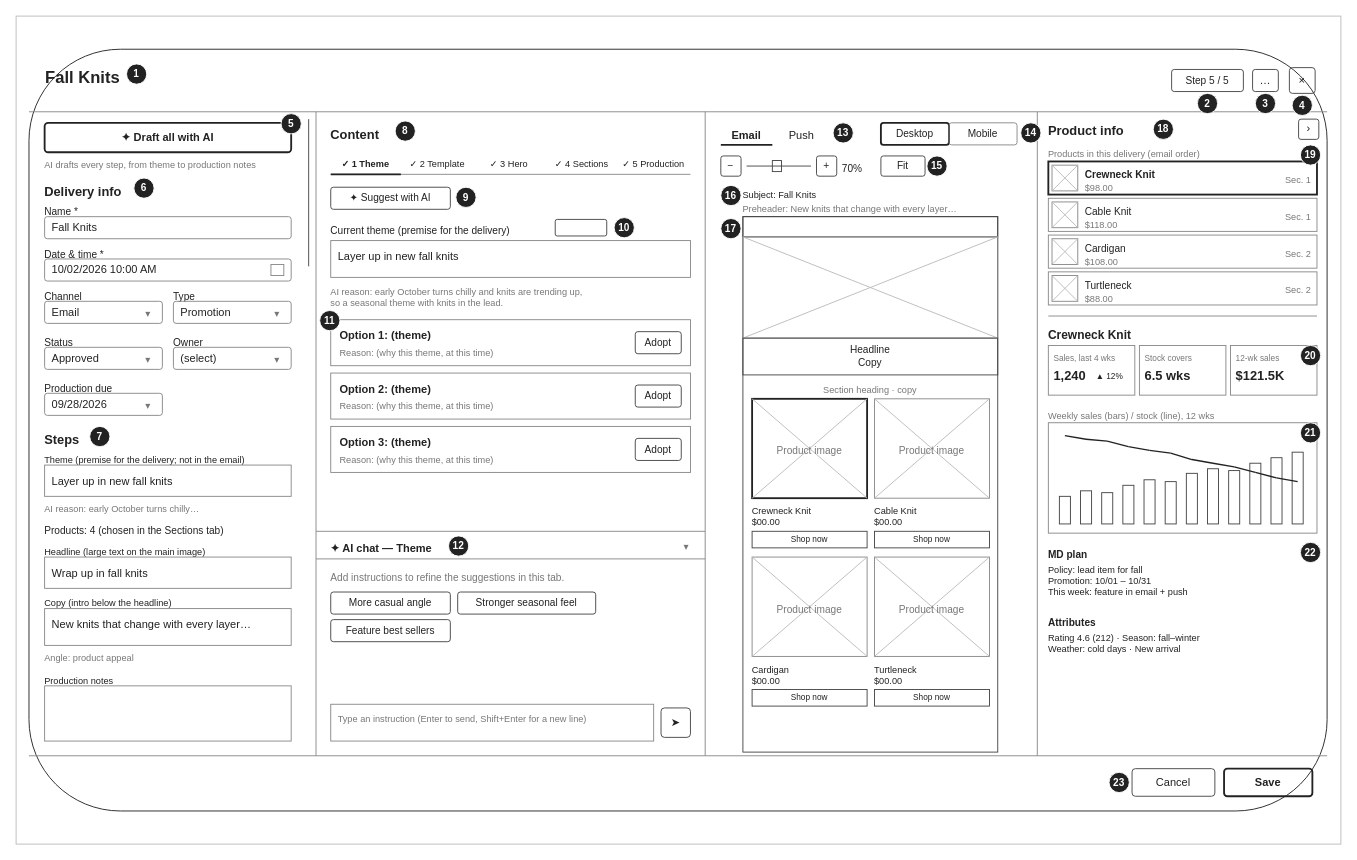
The diagram is 1357 pixels wide and 860 high, and some of its shapes have lost their labels. Here are the shapes that lost their labels. From the top down, the centre of each, then its label:
the point at 580,227: Adopted
the point at 870,226: SHOP
the point at 870,287: Main image
the point at 167,713: (notes for the production team)
